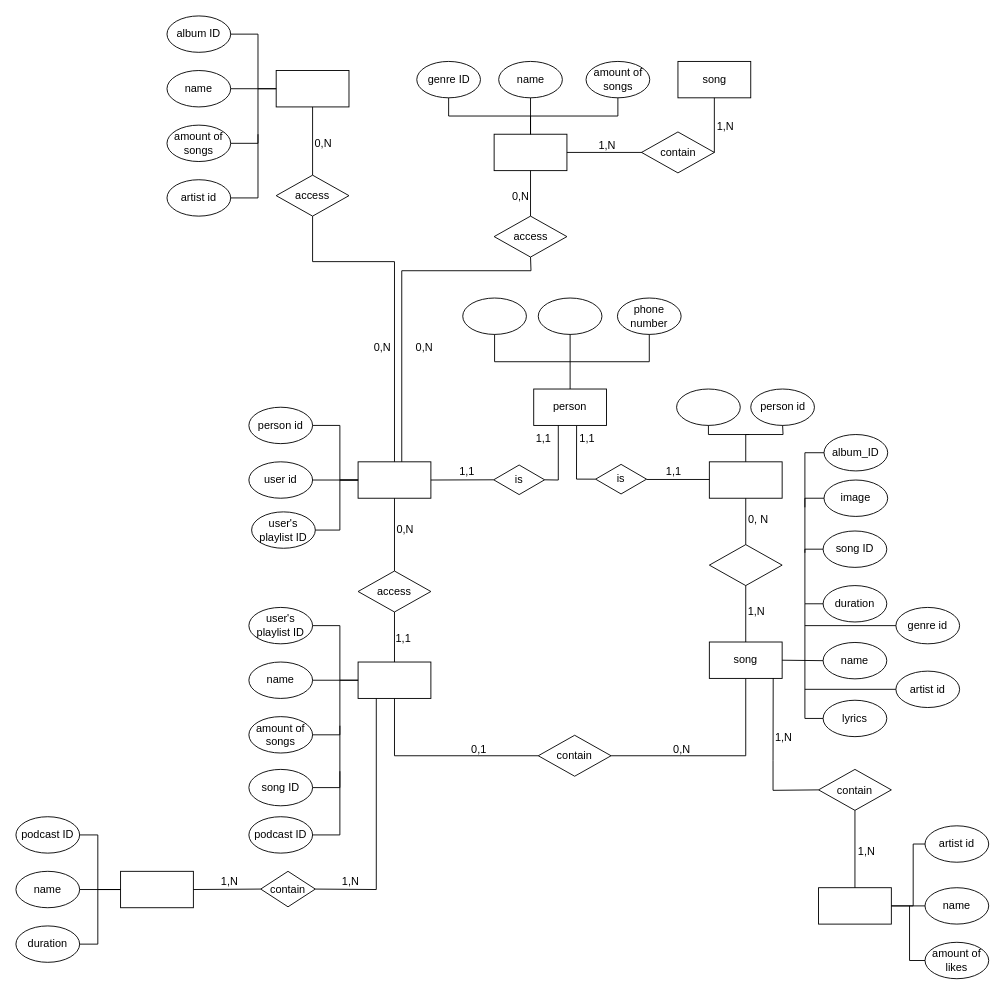
This 1005x995 diagram has some shape labels left out. Each missing label, with the centre of its shape:
"admin" goes at pixel 745 479.
"admin id" goes at pixel 708 406.
"album" goes at pixel 312 88.
"artist" goes at pixel 854 905.
"edit" goes at pixel 745 565.
"email" goes at pixel 494 315.
"genre" goes at pixel 530 152.
"password" goes at pixel 569 315.
"podcast" goes at pixel 156 889.
"user" goes at pixel 394 479.
"user's playlist" goes at pixel 394 679.
